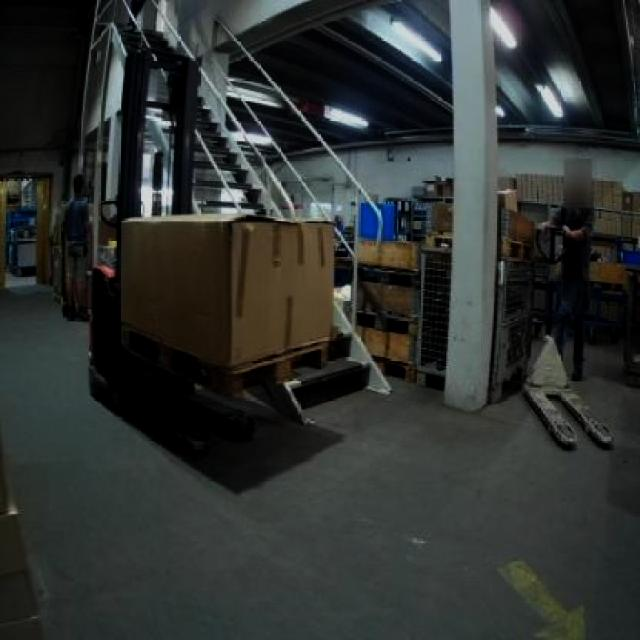floor: (0, 292, 637, 637)
pallets: (118, 214, 331, 365)
